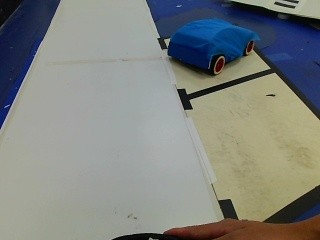car: (166, 21, 257, 76)
